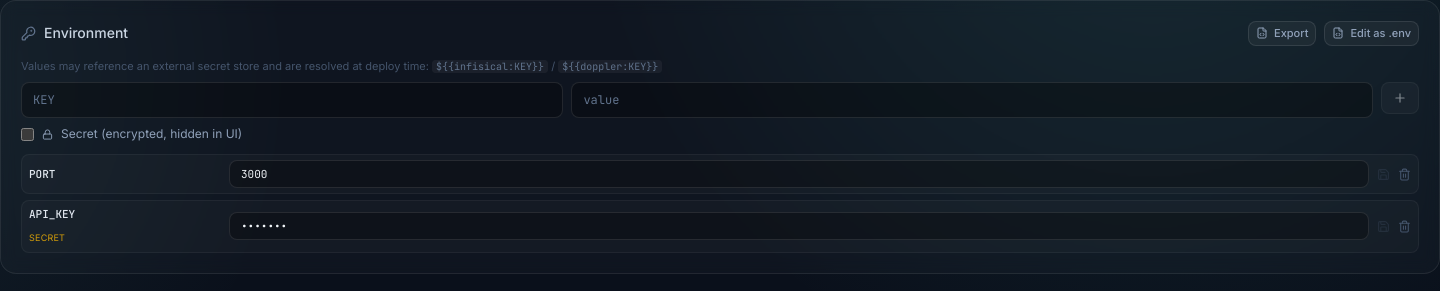
Scenario: EnvCard › disables the add button while a create is pending
This screenshot has width=1440, height=291.
Check: the text "PORT" is shown, box 29,167 -> 55,181
In the field with placeholder "KEY": (292, 100) 21,82 -> 563,118, type "FOO"
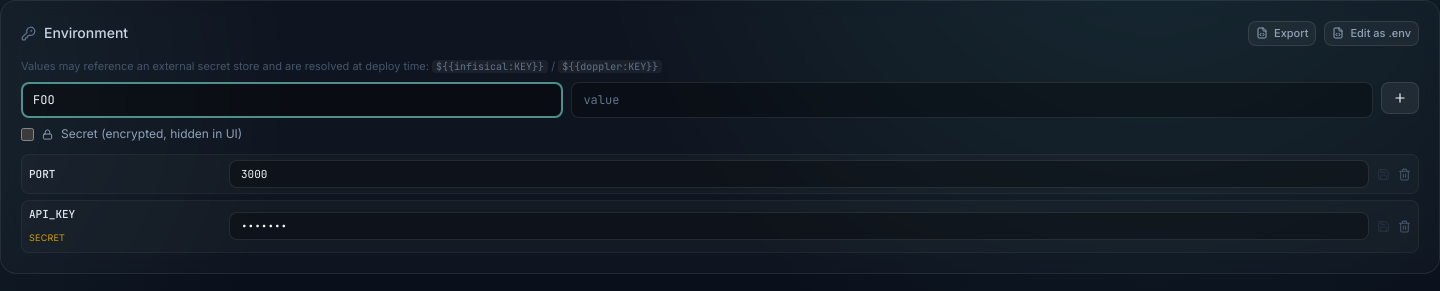
Check: the submit button is enabled, box 1381,82 -> 1419,114
Submit the form, box 21,82 -> 1419,142
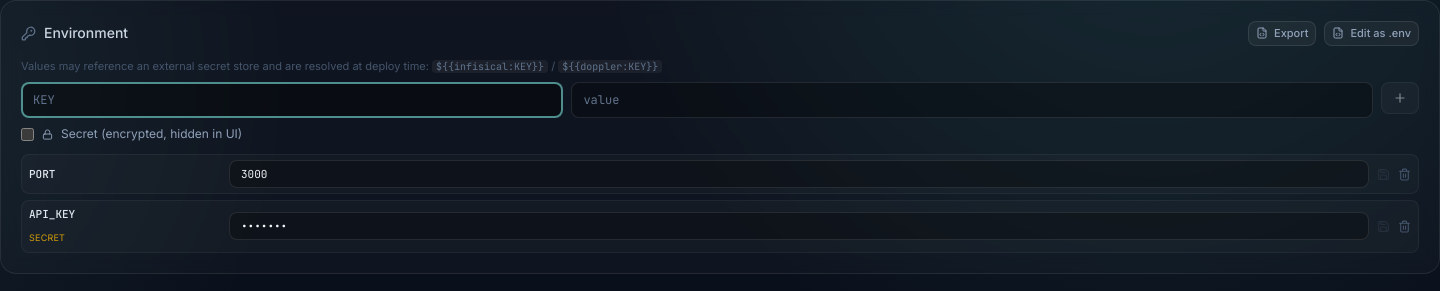
Check: the submit button is disabled, box 1381,82 -> 1419,114
